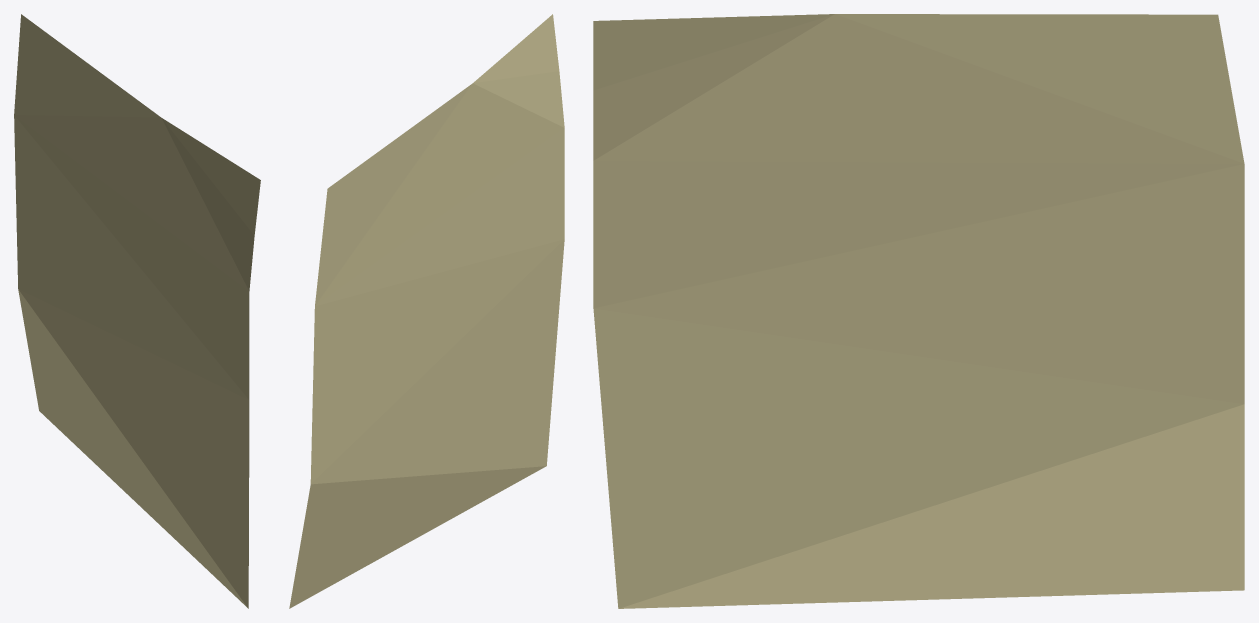
Rendered from note.fbx.
3 views of the same model, side by side, from view 1: azimuth 30°, elevation 25°; view 2: azimuth 150°, elevation 25°; view 3: azimuth 270°, elevation 25° (orthographic). The views are drawn at different scales.
Visible parts, largest first — view 1: pCube15; view 2: pCube15; view 3: pCube15.
Part boxes in pixels (box(x1,y1,x2,y2)): pCube15: box(14, 14, 260, 608); pCube15: box(289, 14, 564, 608); pCube15: box(593, 14, 1244, 608).
Bounding box in the file's own units: 0.4104 × 5.77 × 5.77.
